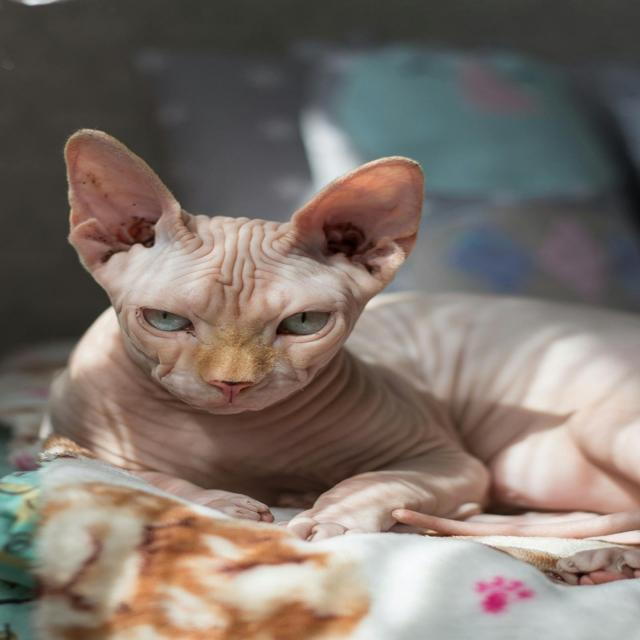Cat: (27, 128, 638, 582)
